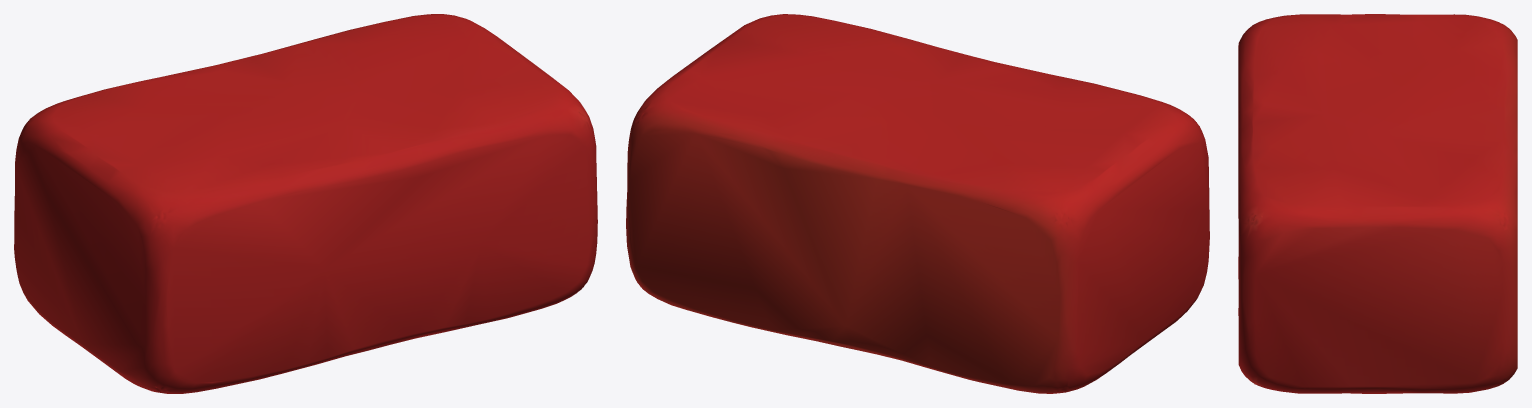
File: meshy-brick.glb
The picture shows the model from 3 angles, left to right: view 1: azimuth 30°, elevation 25°; view 2: azimuth 150°, elevation 25°; view 3: azimuth 270°, elevation 25°; orthographic projection. The views are drawn at different scales.
Parts seen in each view (by area): view 1: Mesh_0; view 2: Mesh_0; view 3: Mesh_0.
Part boxes in pixels (x1,y1,x2,y2): Mesh_0: [14, 14, 597, 393]; Mesh_0: [626, 14, 1209, 393]; Mesh_0: [1238, 14, 1517, 393].
Bounding box in the file's own units: 1.9 × 0.8081 × 1.08.
